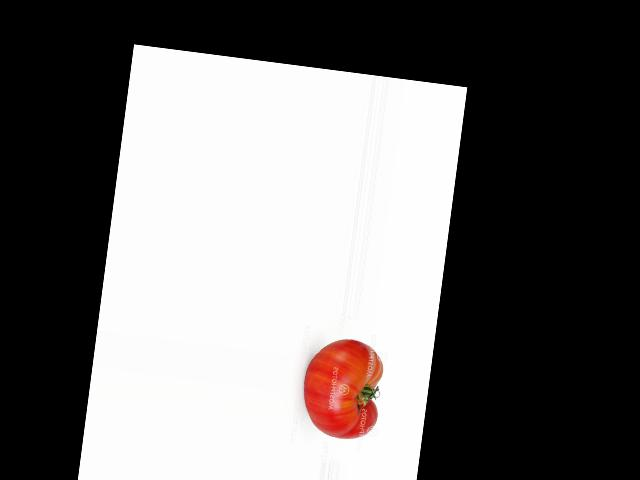tomato: (298, 334, 387, 442)
